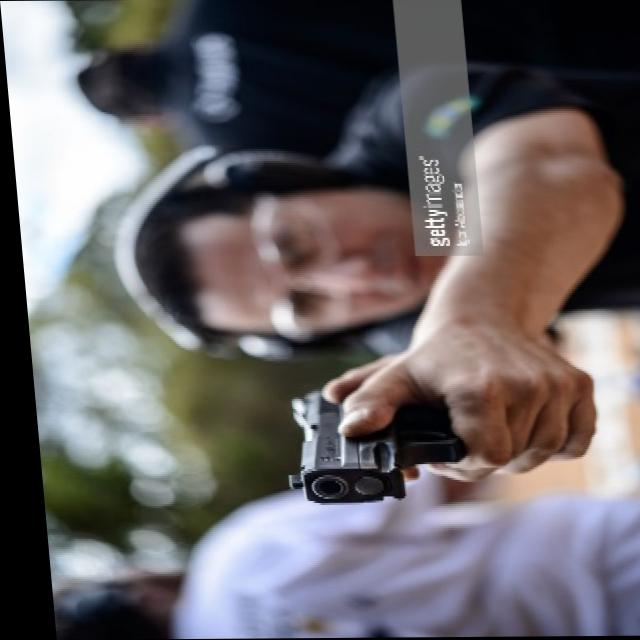handgun: (272, 390, 462, 511)
